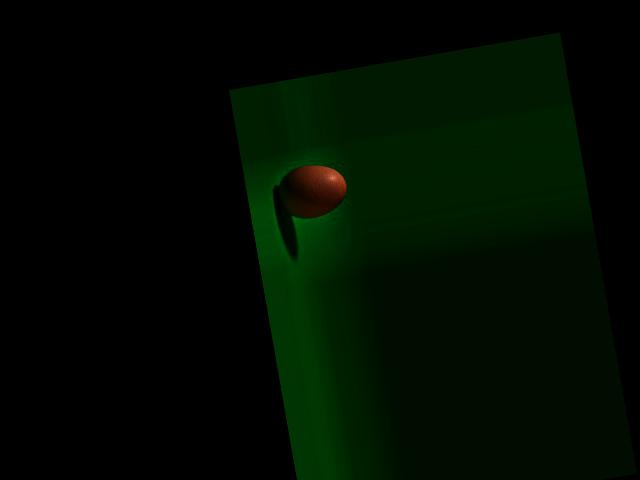egg: (273, 159, 350, 223)
